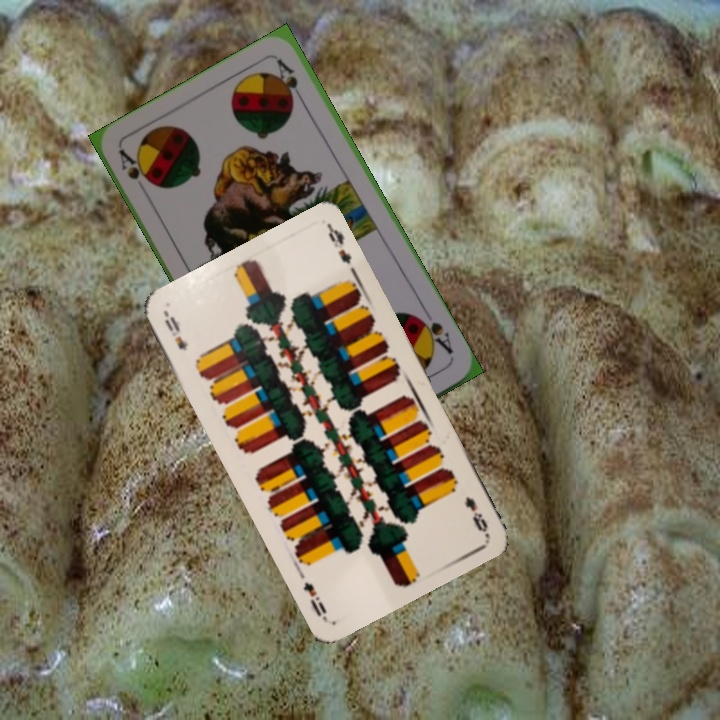E9: (160, 309, 191, 353), (461, 492, 491, 535)
SA: (412, 312, 456, 357), (114, 145, 155, 189)
